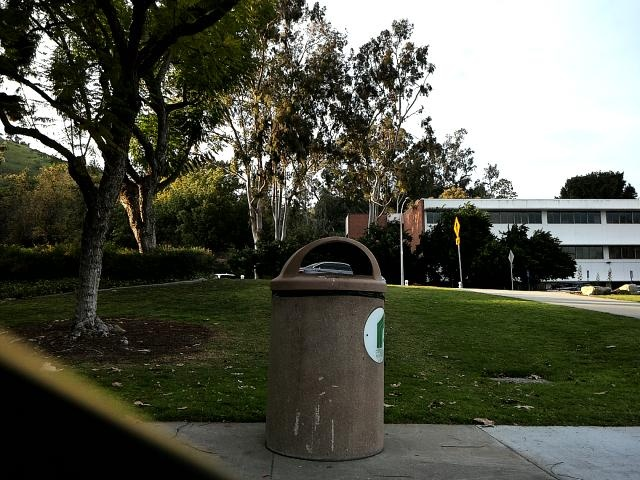trashcan: (253, 223, 405, 457)
